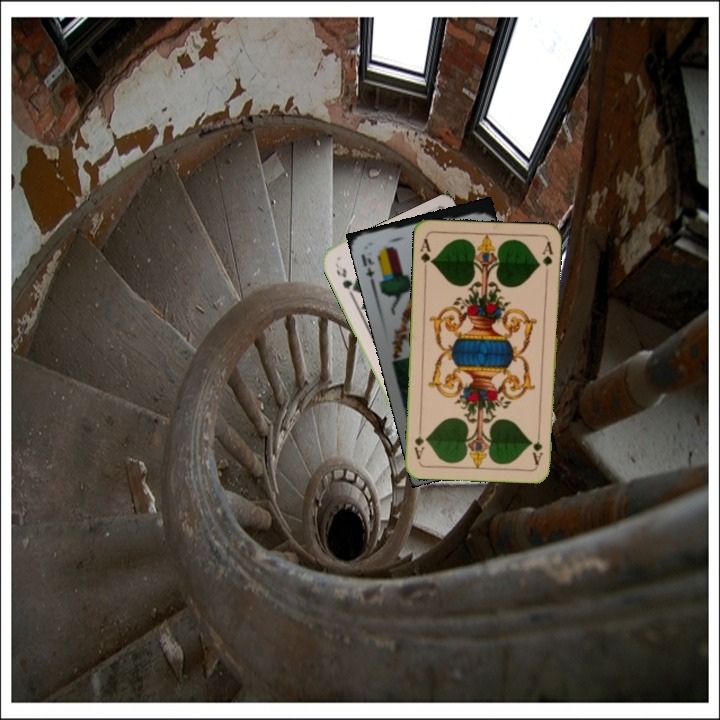EK: (357, 250, 377, 286)
G9: (332, 264, 358, 298)
GA: (416, 234, 435, 274), (529, 427, 546, 467)
